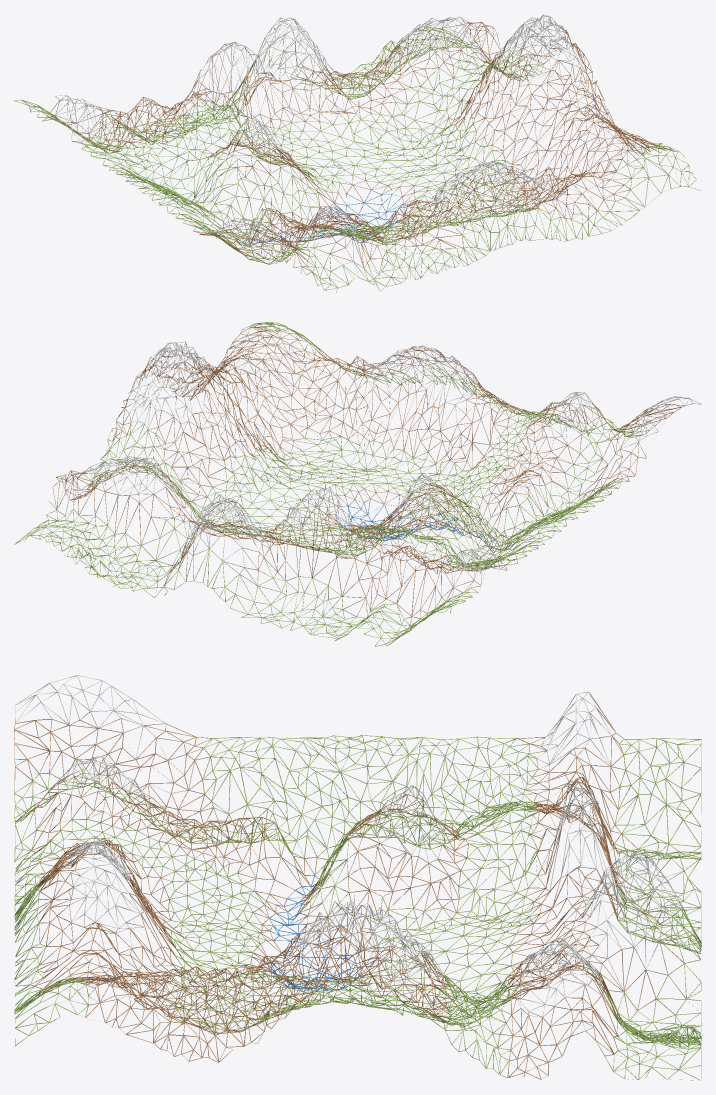
Rendered from newmesh3.glb.
The picture shows the model from 3 angles, top to bottom: view 1: azimuth 30°, elevation 25°; view 2: azimuth 150°, elevation 25°; view 3: azimuth 270°, elevation 25°; orthographic projection. The views are drawn at different scales.
Visible parts, largest first — view 1: Grid; view 2: Grid; view 3: Grid.
Boxes of the visible parts, x1=… form: Grid: x1=14, y1=14, x2=701, y2=292; Grid: x1=14, y1=322, x2=701, y2=646; Grid: x1=14, y1=675, x2=701, y2=1080.
Bounding box in the file's own units: 20.08 × 7.09 × 20.05.
